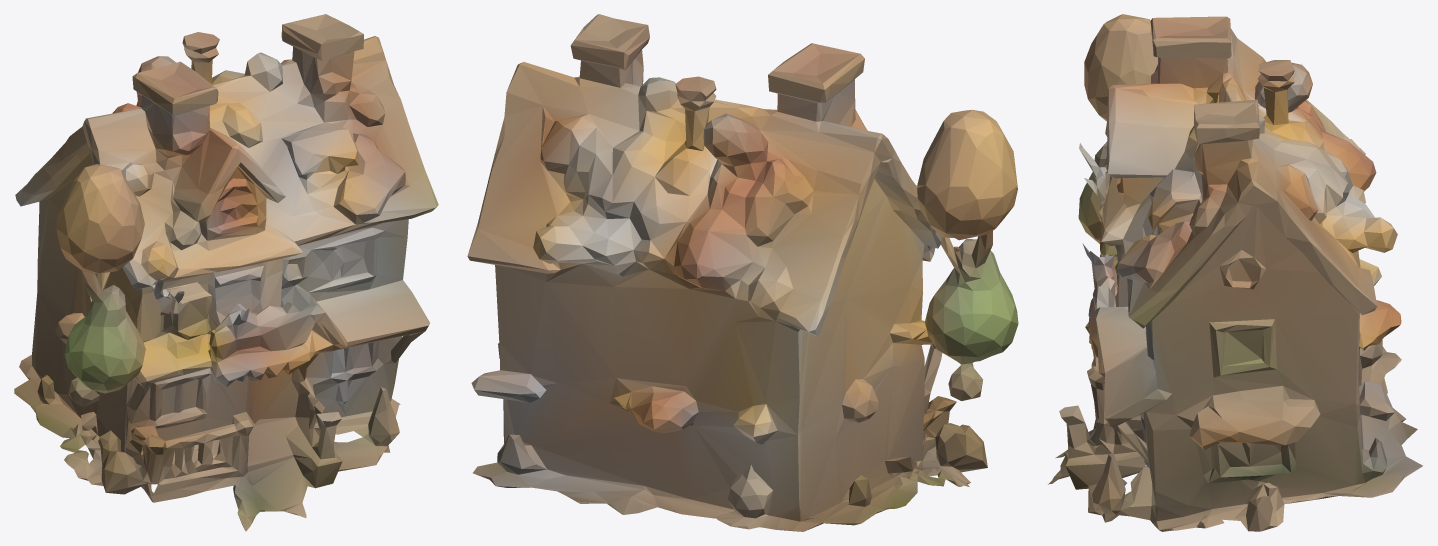
File: firin.glb
3 renders of one model, left to right at view 1: azimuth 30°, elevation 25°; view 2: azimuth 150°, elevation 25°; view 3: azimuth 270°, elevation 25°, orthographic. The views are drawn at different scales.
Parts seen in each view (by area): view 1: geometry_0; view 2: geometry_0; view 3: geometry_0.
Part boxes in pixels (x1,y1,x2,y2): geometry_0: [14, 14, 438, 531]; geometry_0: [467, 14, 1018, 531]; geometry_0: [1048, 14, 1422, 531].
Bounding box in the file's own units: 0.9752 × 1 × 0.7955.
